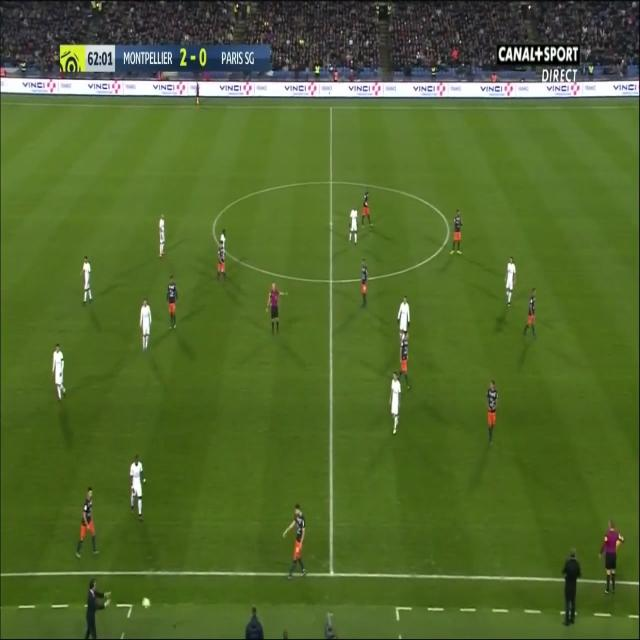Ball: (140, 592, 153, 616)
Player: (73, 483, 101, 562), (281, 501, 308, 580), (128, 451, 147, 524), (50, 339, 69, 406), (388, 371, 404, 437), (164, 274, 182, 332), (485, 376, 500, 445), (521, 287, 539, 341), (80, 252, 95, 314), (399, 332, 414, 394), (137, 297, 153, 353), (357, 255, 372, 312), (215, 226, 229, 286), (450, 206, 464, 259), (503, 255, 517, 307), (396, 294, 412, 338), (360, 188, 375, 230), (157, 212, 168, 262), (347, 206, 360, 247)
Referee: (599, 520, 624, 594), (262, 281, 290, 338), (194, 80, 202, 111)
